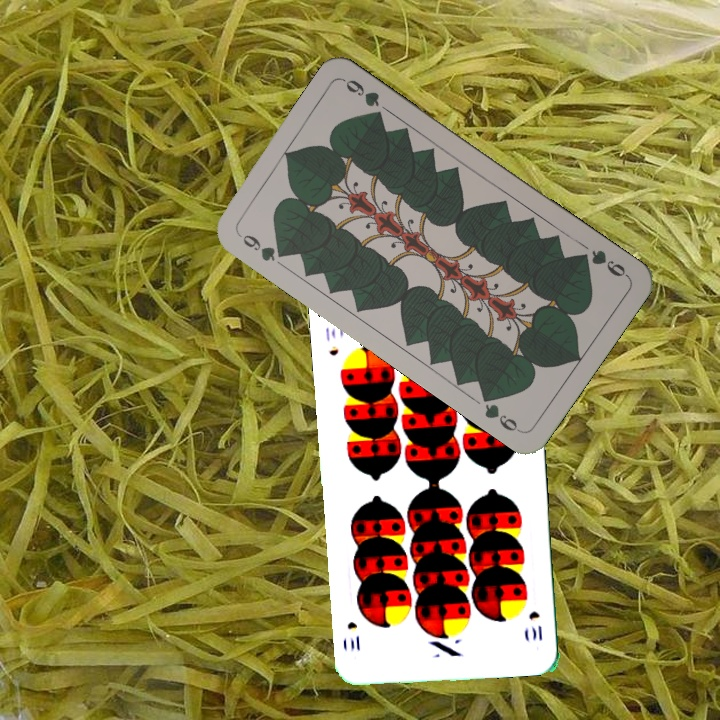G9: (573, 245, 631, 280), (234, 229, 291, 264)
S10: (525, 607, 545, 644), (321, 323, 341, 358)
